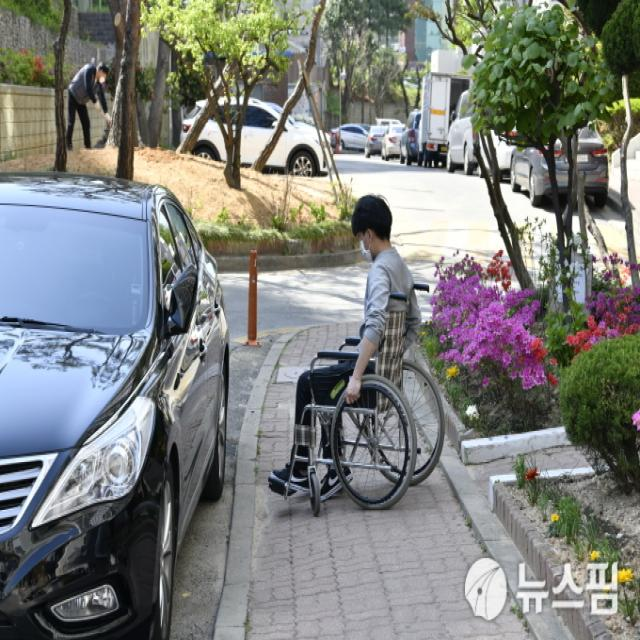wheelchair: (270, 194, 447, 517)
